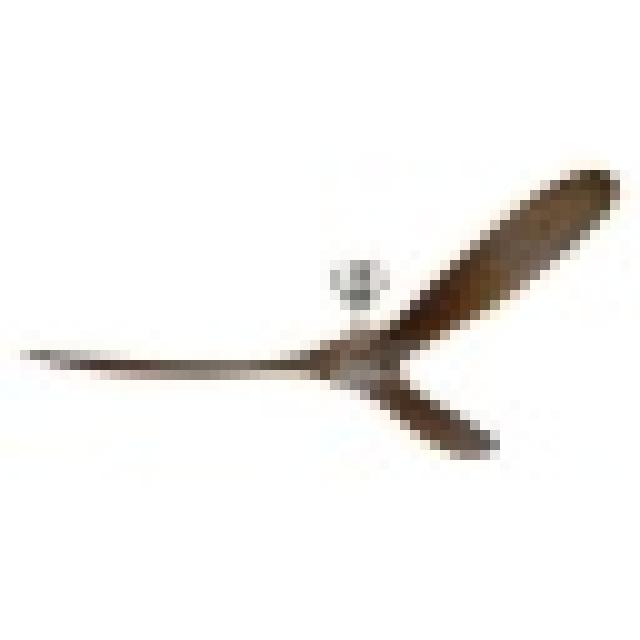Bulb: (19, 177, 635, 483)
